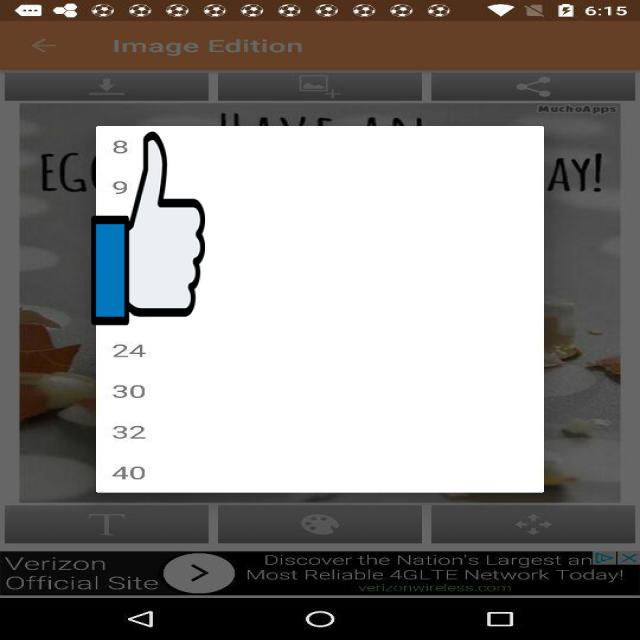privacy zuckering: (91, 128, 205, 330)
